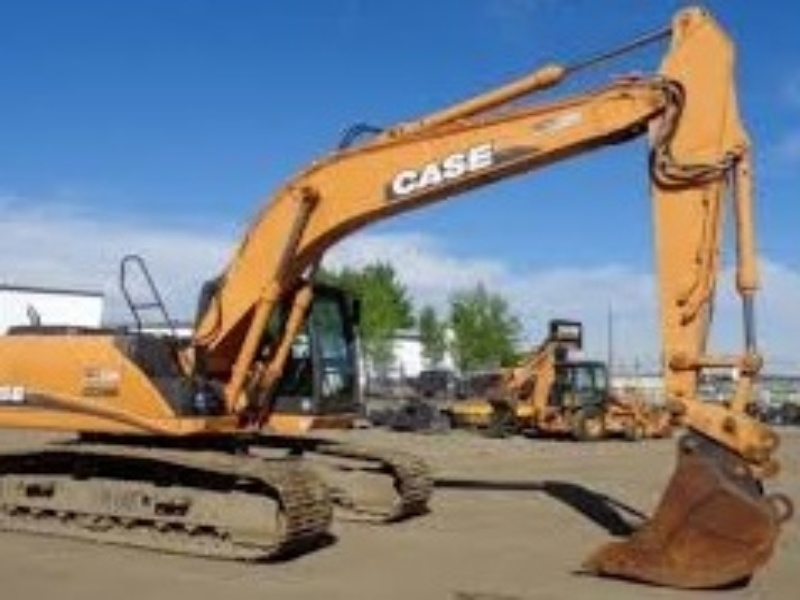wajueji: (8, 113, 555, 567)
